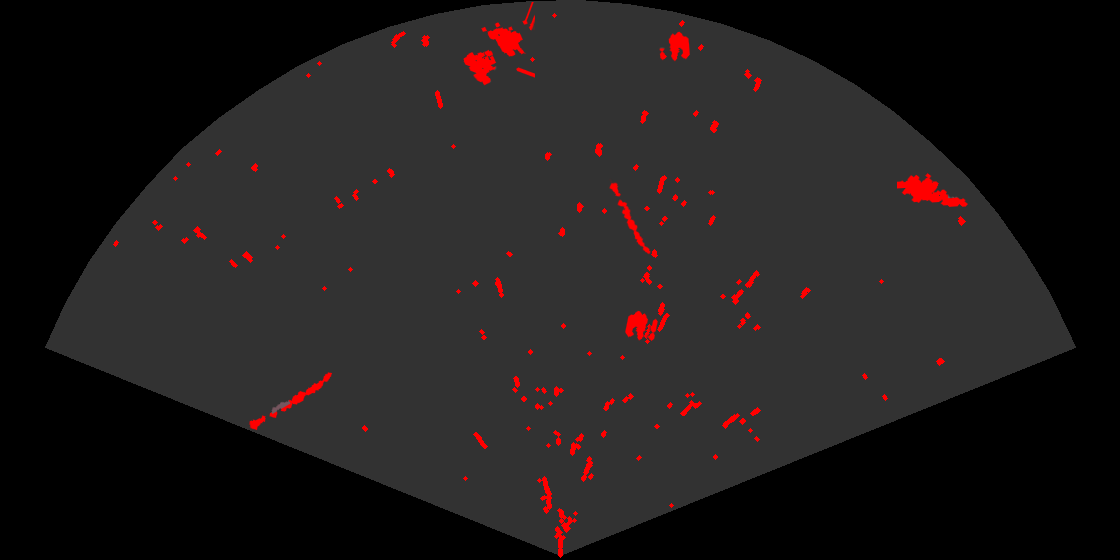ball: (624, 309, 659, 343), (658, 30, 691, 63)
cage: (462, 2, 535, 87)
chain: (247, 371, 334, 432), (608, 178, 652, 256)
frogman: (897, 172, 968, 209)
